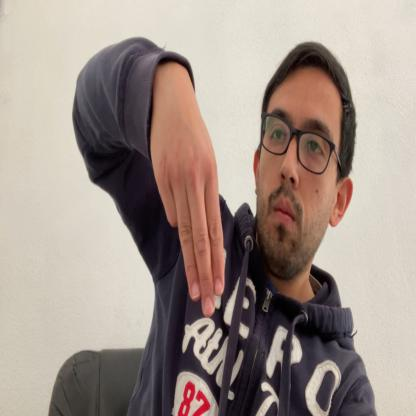M: (155, 76, 224, 318)
